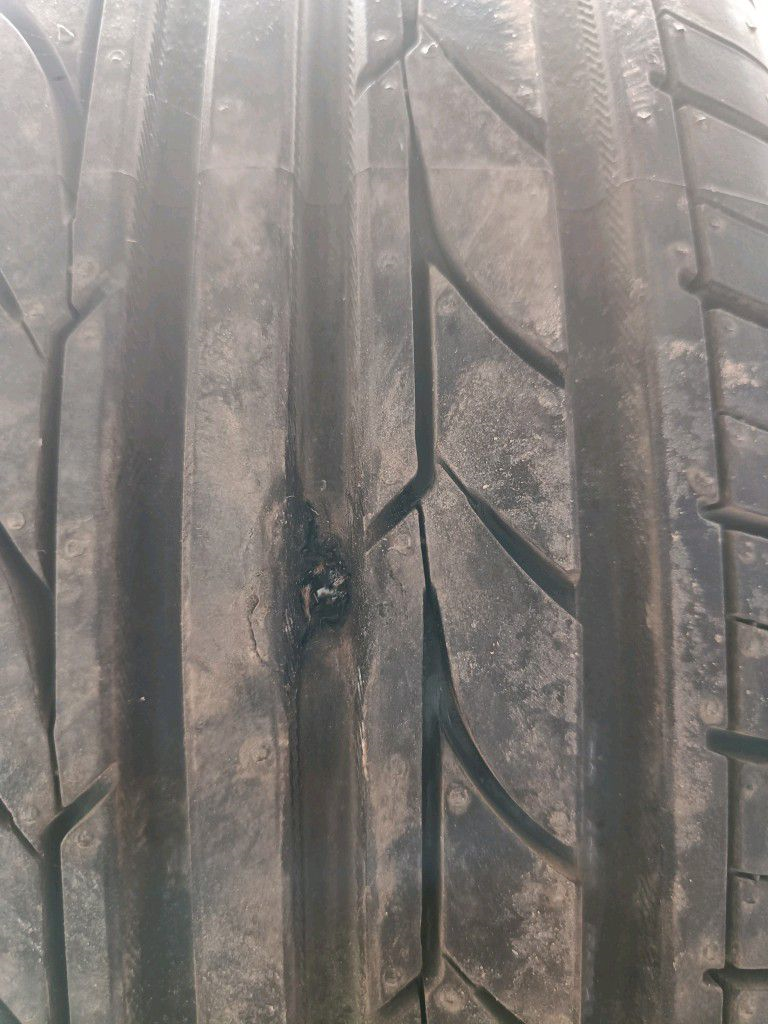tr: (268, 482, 364, 657)
